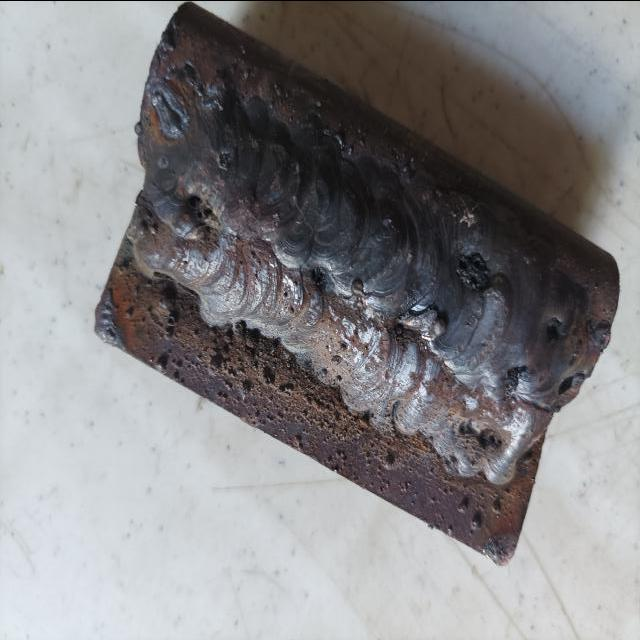defect: (452, 250, 494, 299), (538, 309, 568, 354), (186, 190, 217, 225), (501, 361, 528, 401), (215, 140, 236, 169), (309, 266, 325, 290)
